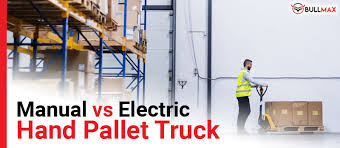Pallet Jack: (252, 84, 320, 135)
